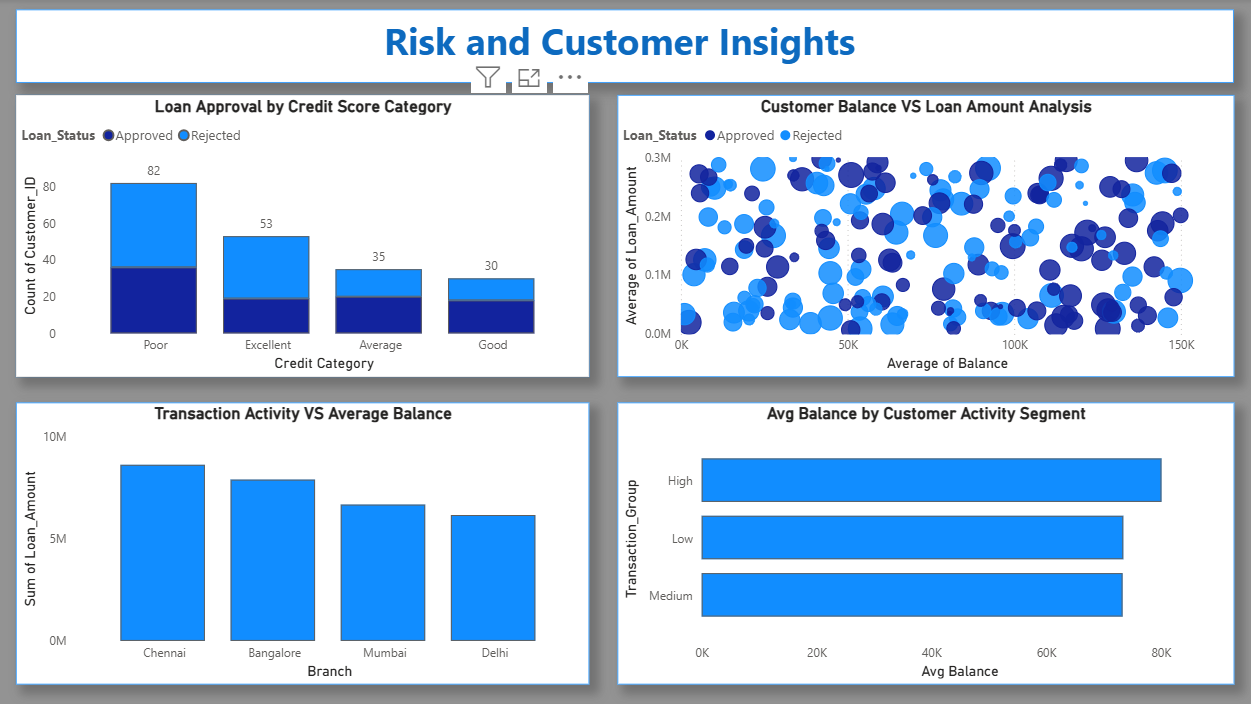

The dashboard page shown, as its layout file describes it:
{"tool":"powerbi","page":{"name":"Page 2","canvas":[1280,720],"ordinal":1},"visuals":[{"type":"textbox","box":[21.2,10.6,1229.5,74.2],"z":0},{"type":"columnChart","title":"Loan Approval by Credit Score Category","fields":{"Category":["bank_dashboard_dataset.Credit Category"],"Y":["CountNonNull(bank_dashboard_dataset.Customer_ID)"],"Series":["bank_dashboard_dataset.Loan_Status"]},"box":[21.2,96.9,578.4,284.7],"z":1000},{"type":"scatterChart","title":"Customer Balance VS Loan Amount Analysis ","fields":{"X":["Avg(bank_dashboard_dataset.Balance)"],"Y":["Avg(bank_dashboard_dataset.Loan_Amount)"],"Size":["Sum(bank_dashboard_dataset.Transaction_Count)"],"Category":["bank_dashboard_dataset.Customer_ID"],"Series":["bank_dashboard_dataset.Loan_Status"]},"box":[628.4,96.9,622.3,284.7],"z":2000},{"type":"columnChart","title":"Transaction Activity VS Average Balance ","fields":{"Category":["bank_dashboard_dataset.Branch"],"Y":["Sum(bank_dashboard_dataset.Loan_Amount)"]},"box":[21.2,407.3,578.4,284.7],"z":3000},{"type":"clusteredBarChart","title":"Avg Balance by Customer Activity Segment ","fields":{"Y":["bank_dashboard_dataset.Avg Balance"],"Category":["bank_dashboard_dataset.Transaction_Group"]},"box":[628.4,407.3,622.3,284.7],"z":4000}]}

Visuals, with their boxes in screenshot pixels (x1, y1, x2, y2), scaled from the page's 1280x720 canvas onto the 1251x704 screenshot:
textbox: locate(21, 10, 1222, 83)
"Loan Approval by Credit Score Category" columnChart: locate(21, 95, 586, 373)
"Customer Balance VS Loan Amount Analysis " scatterChart: locate(614, 95, 1222, 373)
"Transaction Activity VS Average Balance " columnChart: locate(21, 398, 586, 677)
"Avg Balance by Customer Activity Segment " clusteredBarChart: locate(614, 398, 1222, 677)
